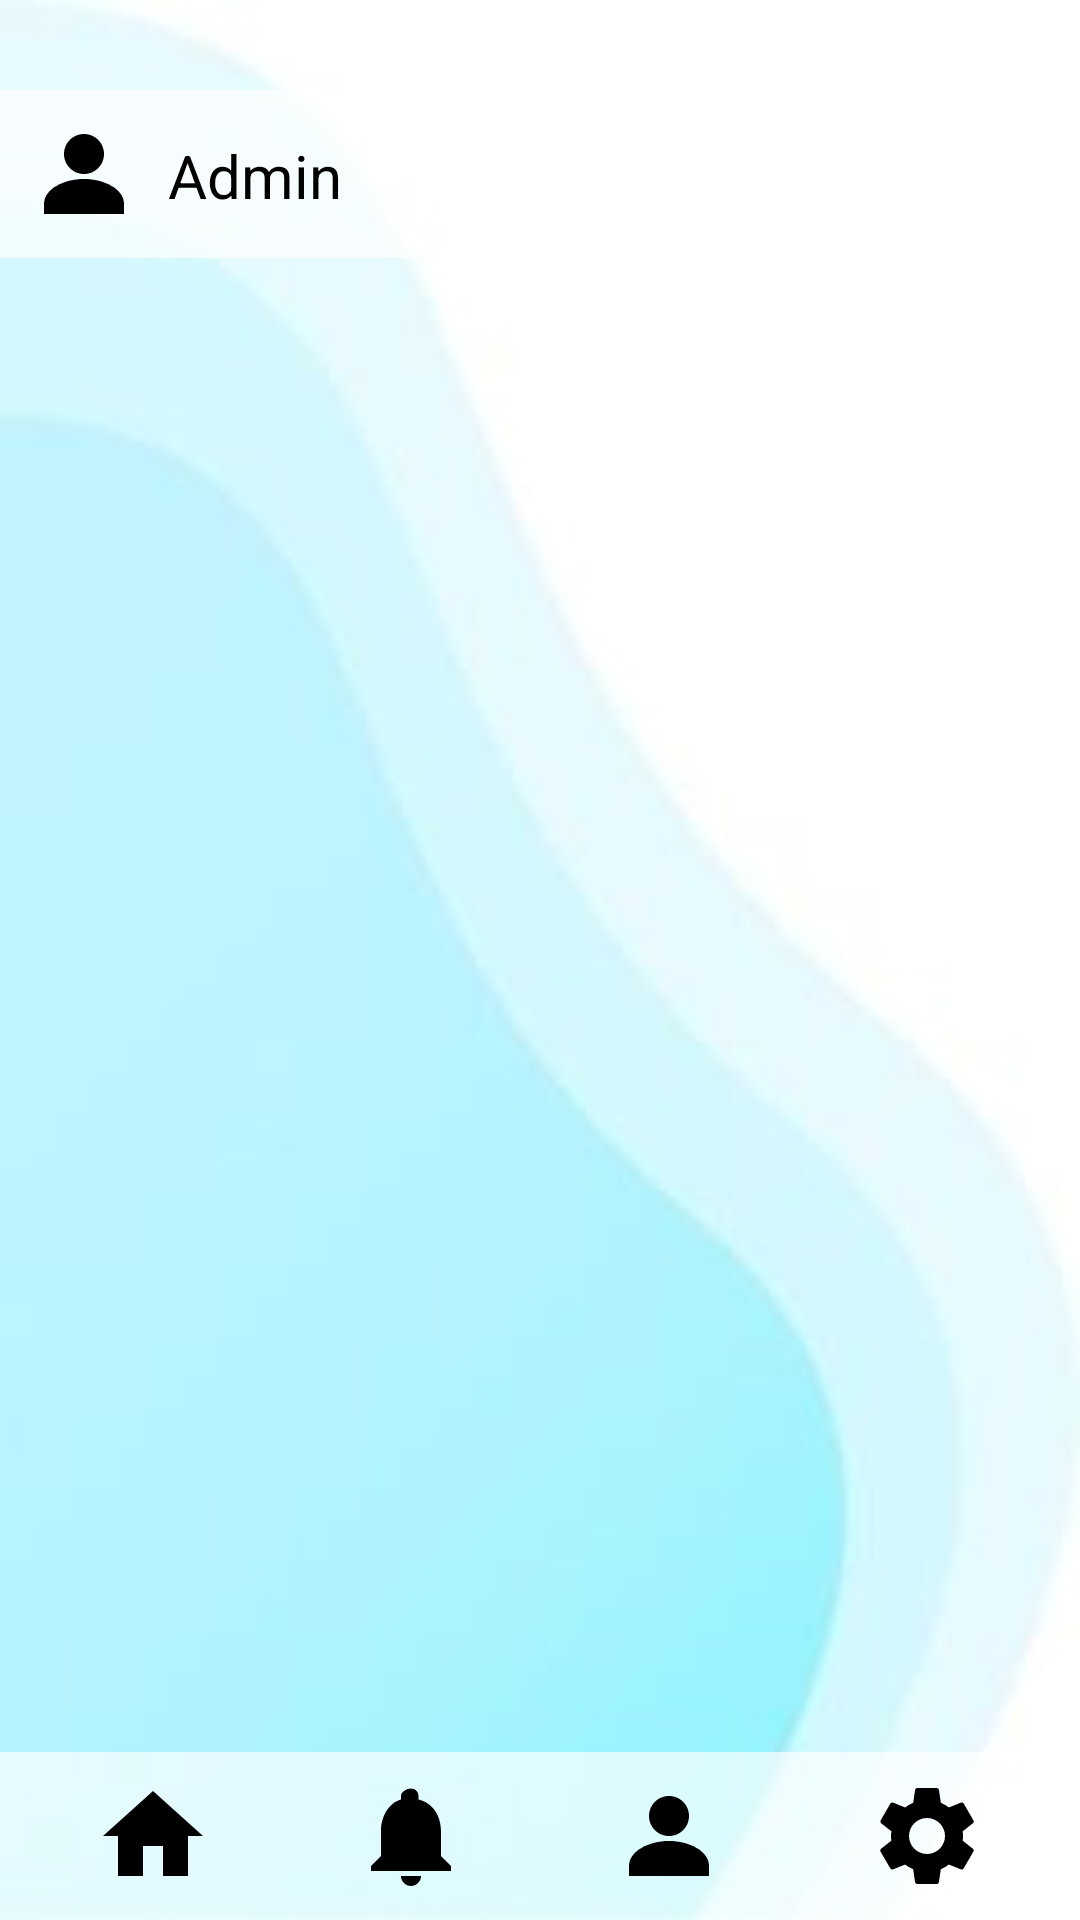

Screen size 1080w x 1920h. Icon name, then its box in pixels as {"x1": x1, "y1": y1, "x2": x2, "y2": y2}:
bell: {"x1": 371, "y1": 1788, "x2": 451, "y2": 1886}
home: {"x1": 103, "y1": 1791, "x2": 203, "y2": 1876}
profile: {"x1": 44, "y1": 134, "x2": 124, "y2": 214}, {"x1": 629, "y1": 1796, "x2": 709, "y2": 1876}
settings: {"x1": 880, "y1": 1788, "x2": 974, "y2": 1884}
